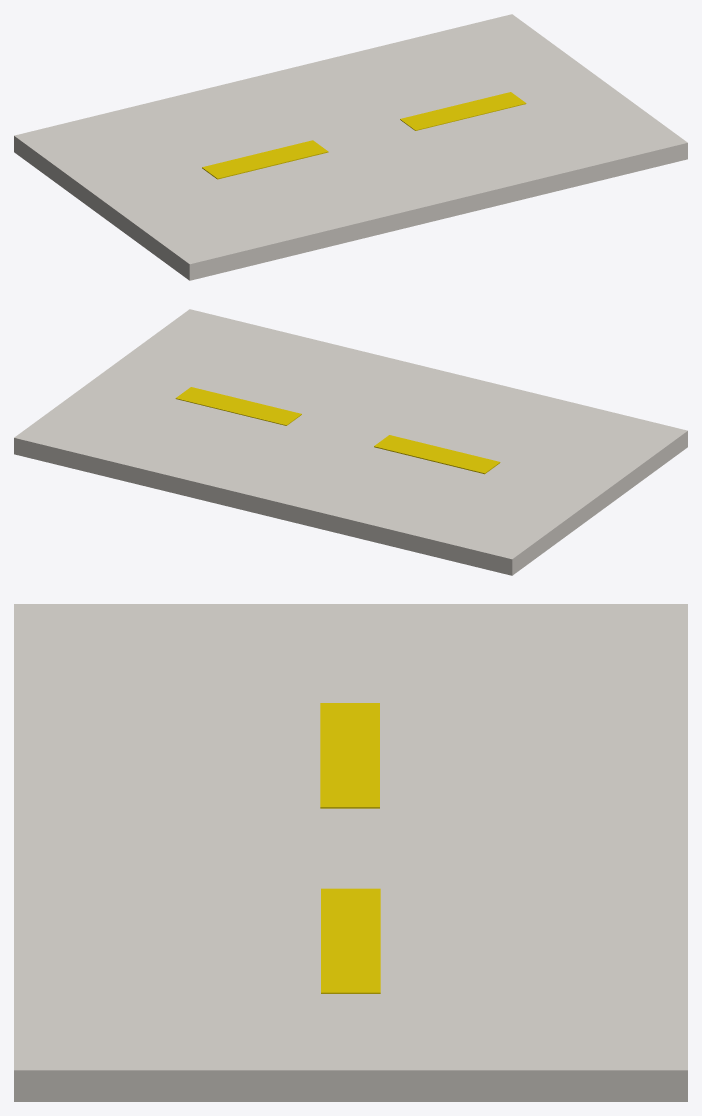
The model's file is Road.fbx.
3 renders of one model, top to bottom at view 1: azimuth 30°, elevation 25°; view 2: azimuth 150°, elevation 25°; view 3: azimuth 270°, elevation 25°, orthographic. The views are drawn at different scales.
Visible parts, largest first — view 1: Cube, Cube.002, Cube.001; view 2: Cube, Cube.002, Cube.001; view 3: Cube, Cube.001, Cube.002.
Part boxes in pixels (left/top/right/bottom): Cube: left=14, top=14, right=687, bottom=280; Cube.002: left=202, top=140, right=328, bottom=179; Cube.001: left=400, top=92, right=526, bottom=130; Cube: left=14, top=309, right=687, bottom=575; Cube.002: left=374, top=435, right=500, bottom=474; Cube.001: left=175, top=387, right=301, bottom=425; Cube: left=14, top=604, right=687, bottom=1101; Cube.001: left=321, top=888, right=380, bottom=993; Cube.002: left=320, top=703, right=379, bottom=808.
Size of the model in its own units: 423 by 14.16 by 258.
